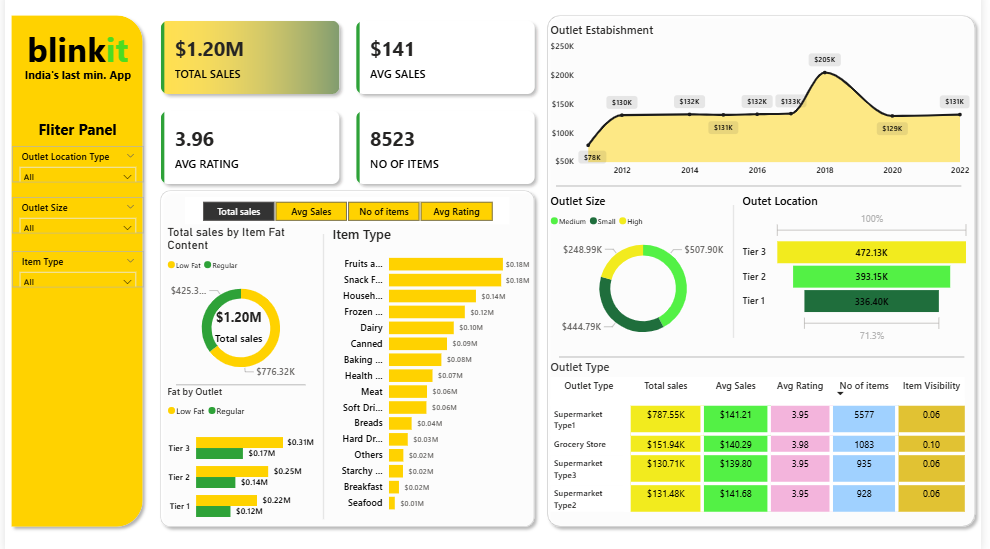

The dashboard page shown, as its layout file describes it:
{"tool":"powerbi","page":{"name":"Page 1","canvas":[1400,800],"ordinal":0},"visuals":[{"type":"shape","box":[0,23.6,206.3,751.2],"z":0},{"type":"textbox","box":[9.4,40.9,189,77.2],"z":1000},{"type":"textbox","box":[9.4,102.4,189,31.5],"z":2000},{"type":"cardVisual","fields":{"Data":["blinkit_db blinkit_data.Total sales","blinkit_db blinkit_data.Avg Sales","blinkit_db blinkit_data.Avg Rating","blinkit_db blinkit_data.No of items"]},"box":[206.3,23.6,570.1,269.3],"z":3000},{"type":"shape","box":[214.2,274,554.3,500.8],"z":4000},{"type":"slicer","fields":{"Values":["Matrics.Matrics"]},"box":[258.3,292.9,464.6,39.4],"z":5000},{"type":"donutChart","fields":{"Y":["blinkit_db blinkit_data.Total sales"],"Category":["blinkit_db blinkit_data.Item Fat Content"]},"box":[228.3,332.3,220.5,229.9],"z":6000},{"type":"card","fields":{"Values":["blinkit_db blinkit_data.Total sales"]},"box":[275.6,447.2,119.7,58.3],"z":7000},{"type":"clusteredBarChart","title":"Fat by Outlet","fields":{"Y":["blinkit_db blinkit_data.Total sales"],"Category":["blinkit_db blinkit_data.Outlet Location Type"],"Series":["blinkit_db blinkit_data.Item Fat Content"]},"box":[228.3,562.2,220.5,212.6],"z":8000},{"type":"barChart","title":"Item Type","fields":{"Y":["blinkit_db blinkit_data.Total sales"],"Category":["blinkit_db blinkit_data.Item Type"]},"box":[464.6,332.3,292.9,422],"z":9000},{"type":"shape","box":[448.8,344.9,15.7,409.4],"z":10000},{"type":"shape","box":[245.7,541.7,185.8,39.4],"z":11000},{"type":"shape","box":[768.5,23.6,631.5,751.2],"z":12000},{"type":"lineChart","title":"Outlet Estabishment","fields":{"Category":["blinkit_db blinkit_data.Outlet Establishment Year"],"Y":["blinkit_db blinkit_data.Total sales"]},"box":[776.4,40.9,611,229.9],"z":13000},{"type":"shape","box":[790.6,261.4,581.1,31.5],"z":14000},{"type":"donutChart","title":"Outlet Size","fields":{"Y":["blinkit_db blinkit_data.Total sales"],"Category":["blinkit_db blinkit_data.Outlet Size"]},"box":[776.4,286.6,275.6,225.2],"z":15000},{"type":"shape","box":[1036.2,303.9,15.7,190.6],"z":16000},{"type":"funnel","title":"Outet Location","fields":{"Category":["blinkit_db blinkit_data.Outlet Location Type"],"Y":["Sum(blinkit_db blinkit_data.Sales)"]},"box":[1052,286.6,335.4,218.9],"z":17000},{"type":"shape","box":[793.7,505.5,581.1,31.5],"z":18000},{"type":"pivotTable","title":"Outlet Type","fields":{"Rows":["blinkit_db blinkit_data.Outlet Type"],"Values":["blinkit_db blinkit_data.Total sales","blinkit_db blinkit_data.Avg Sales","blinkit_db blinkit_data.Avg Rating","blinkit_db blinkit_data.No of items","Avg(blinkit_db blinkit_data.Item Visibility)"]},"box":[776.4,524.4,611,229.9],"z":19000},{"type":"slicer","fields":{"Values":["blinkit_db blinkit_data.Outlet Location Type"]},"box":[9.4,218.9,189,52],"z":20000},{"type":"slicer","fields":{"Values":["blinkit_db blinkit_data.Outlet Size"]},"box":[9.4,292.9,189,52],"z":21000},{"type":"slicer","fields":{"Values":["blinkit_db blinkit_data.Item Type"]},"box":[9.4,370.1,189,52],"z":22000},{"type":"textbox","box":[17.3,174.8,173.2,44.1],"z":23000}]}

Visuals, with their boxes on the page's 1400x800 design canvas (x1, y1, x2, y2). These are canvas units, not pixel positions in the 990x549 screenshot, which may show the page scaled, cropped or inside an application window:
shape: bbox=[0, 24, 206, 775]
textbox: bbox=[9, 41, 198, 118]
textbox: bbox=[9, 102, 198, 134]
cardVisual - blinkit_db blinkit_data.Total sales x blinkit_db blinkit_data.Avg Sales: bbox=[206, 24, 776, 293]
shape: bbox=[214, 274, 768, 775]
slicer - Matrics.Matrics: bbox=[258, 293, 723, 332]
donutChart - blinkit_db blinkit_data.Total sales x blinkit_db blinkit_data.Item Fat Content: bbox=[228, 332, 449, 562]
card - blinkit_db blinkit_data.Total sales: bbox=[276, 447, 395, 506]
"Fat by Outlet" clusteredBarChart: bbox=[228, 562, 449, 775]
"Item Type" barChart: bbox=[465, 332, 758, 754]
shape: bbox=[449, 345, 464, 754]
shape: bbox=[246, 542, 432, 581]
shape: bbox=[768, 24, 1400, 775]
"Outlet Estabishment" lineChart: bbox=[776, 41, 1387, 271]
shape: bbox=[791, 261, 1372, 293]
"Outlet Size" donutChart: bbox=[776, 287, 1052, 512]
shape: bbox=[1036, 304, 1052, 494]
"Outet Location" funnel: bbox=[1052, 287, 1387, 506]
shape: bbox=[794, 506, 1375, 537]
"Outlet Type" pivotTable: bbox=[776, 524, 1387, 754]
slicer - blinkit_db blinkit_data.Outlet Location Type: bbox=[9, 219, 198, 271]
slicer - blinkit_db blinkit_data.Outlet Size: bbox=[9, 293, 198, 345]
slicer - blinkit_db blinkit_data.Item Type: bbox=[9, 370, 198, 422]
textbox: bbox=[17, 175, 190, 219]
